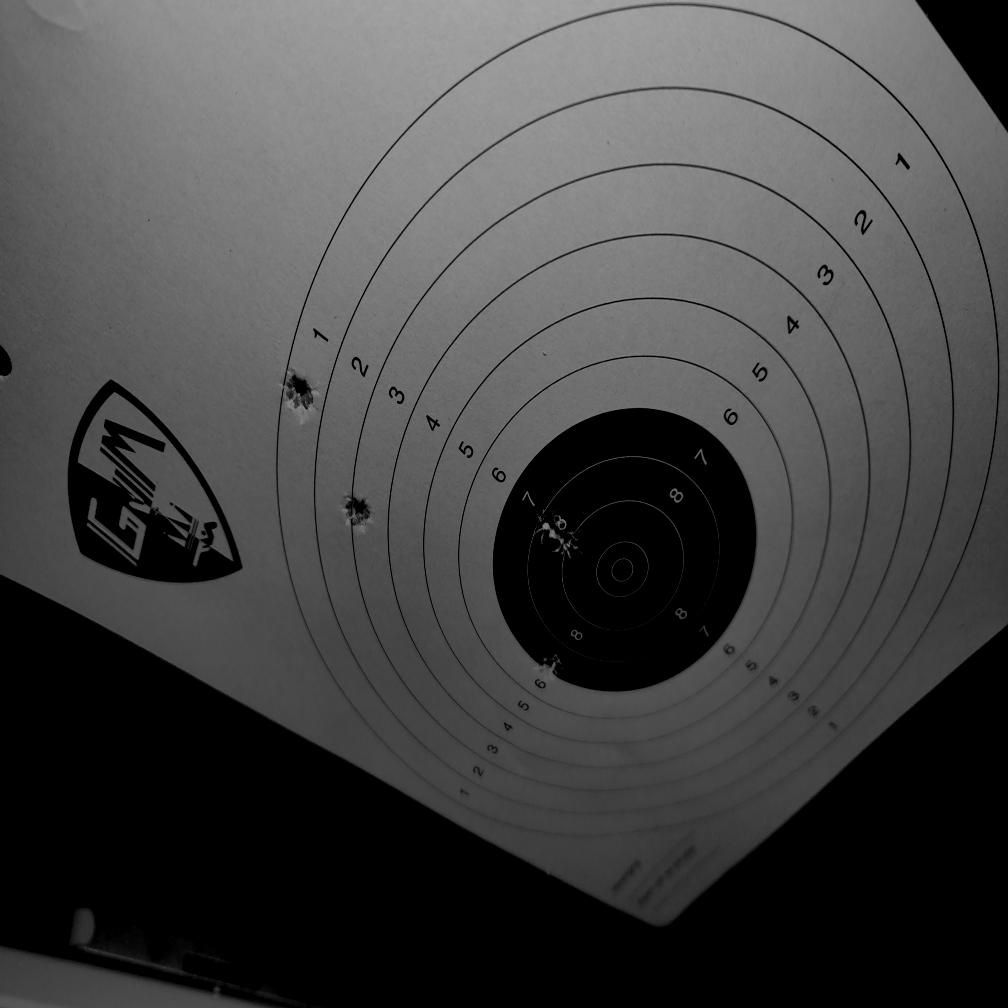1: (284, 363, 320, 426)
3: (340, 488, 371, 532)
7: (537, 648, 564, 681)
8: (536, 509, 556, 551)
9: (554, 527, 583, 560)
Target: (276, 0, 997, 841)
black_contour: (492, 408, 756, 693)
